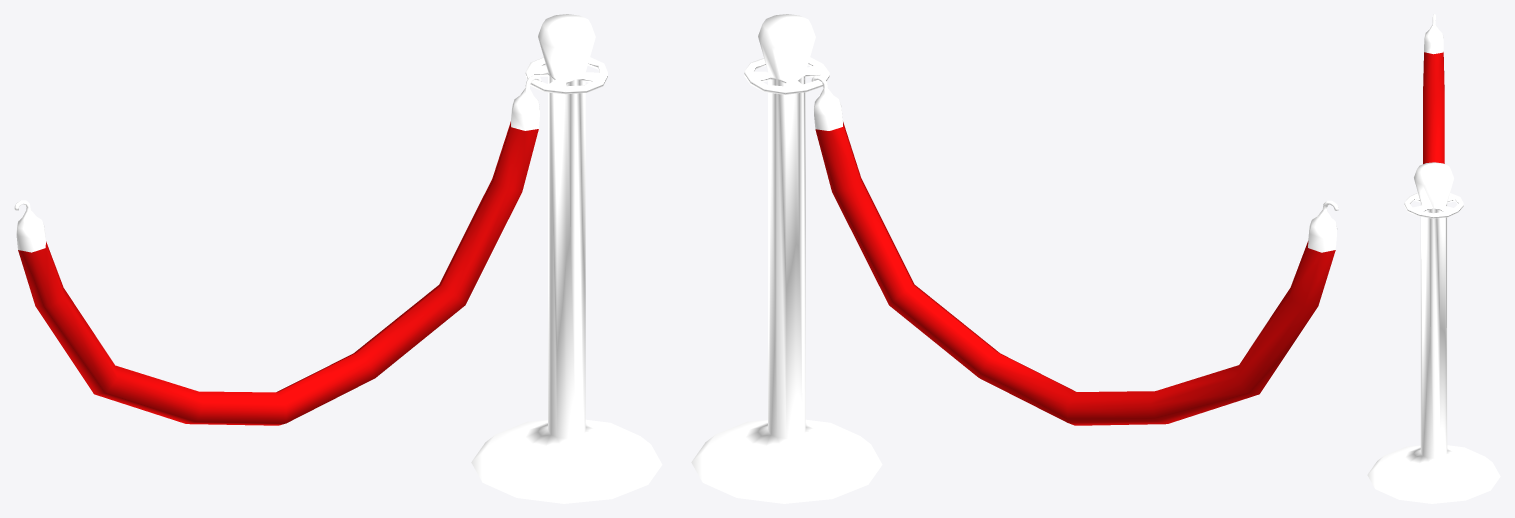
Rendered from VipRopeSilverShortAddon.glb.
The picture shows the model from 3 angles, left to right: view 1: azimuth 30°, elevation 25°; view 2: azimuth 150°, elevation 25°; view 3: azimuth 270°, elevation 25°; orthographic projection. The views are drawn at different scales.
Visible parts, largest first — view 1: VipRopeSilverShortAddon; view 2: VipRopeSilverShortAddon; view 3: VipRopeSilverShortAddon.
Boxes of the visible parts, left/top/right/bottom form: VipRopeSilverShortAddon: left=14, top=14, right=662, bottom=503; VipRopeSilverShortAddon: left=691, top=14, right=1338, bottom=503; VipRopeSilverShortAddon: left=1367, top=14, right=1500, bottom=503.
Bounding box in the file's own units: 1.76 × 1.17 × 0.4581.
Materials: 2 (2 with a texture image).
